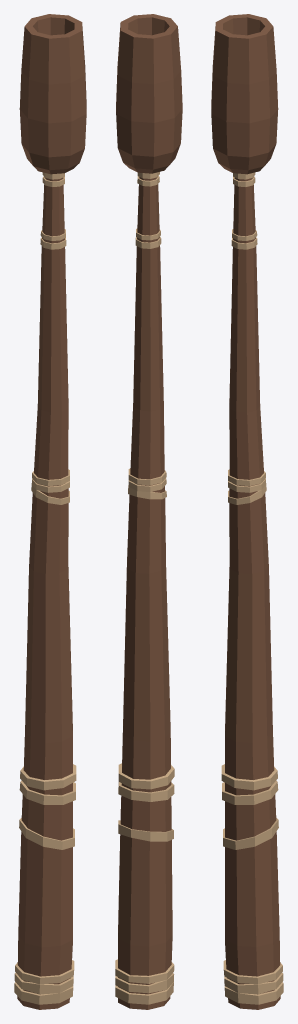
Rendered from Standing torch.fbx.
The picture shows the model from 3 angles, left to right: view 1: azimuth 90°, elevation 25°; view 2: azimuth 150°, elevation 25°; view 3: azimuth 270°, elevation 25°; orthographic projection.
Parts seen in each view (by area): view 1: Cylinder; view 2: Cylinder; view 3: Cylinder.
Part boxes in pixels (left/top/right/bottom): Cylinder: left=14, top=14, right=86, bottom=1009; Cylinder: left=115, top=14, right=182, bottom=1009; Cylinder: left=211, top=14, right=283, bottom=1009.
Size of the model in its own units: 18.14 by 287 by 19.33.
